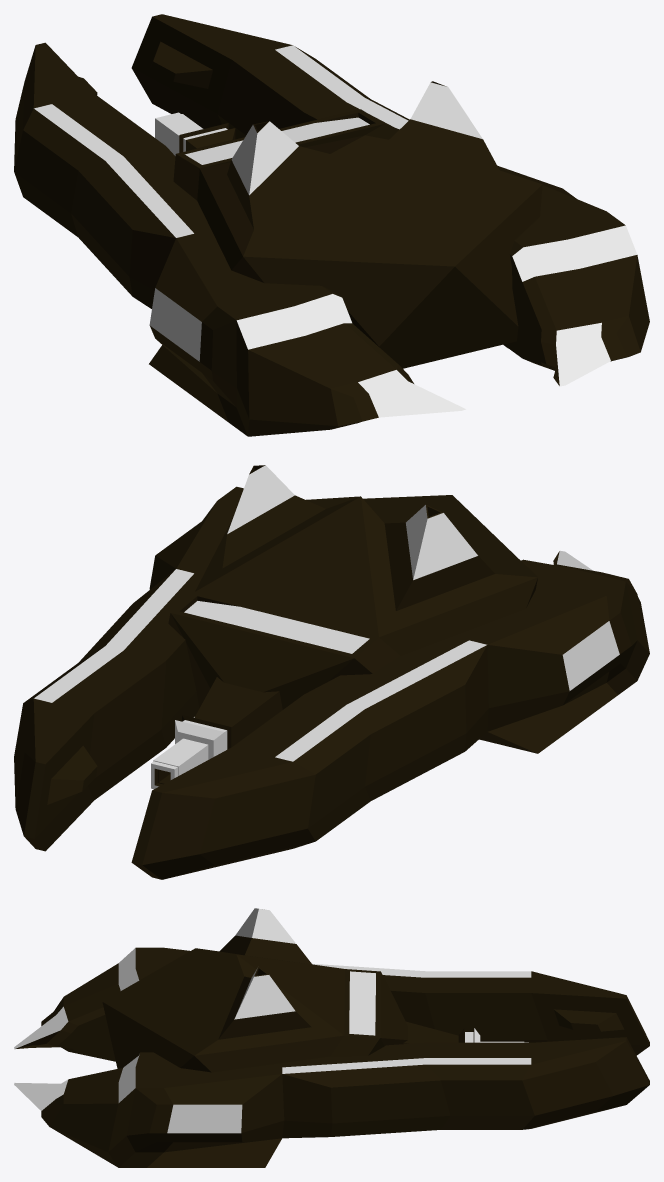
Rendered from Player Less detailed.fbx.
3 renders of one model, top to bottom at view 1: azimuth 30°, elevation 25°; view 2: azimuth 150°, elevation 25°; view 3: azimuth 270°, elevation 25°, orthographic. The views are drawn at different scales.
Visible parts, largest first — view 1: Cube.003; view 2: Cube.003; view 3: Cube.003.
Boxes of the visible parts, bbox=[...] form: Cube.003: bbox=[14, 14, 649, 436]; Cube.003: bbox=[14, 465, 649, 879]; Cube.003: bbox=[14, 908, 649, 1167].
Size of the model in its own units: 488 by 257 by 866.
